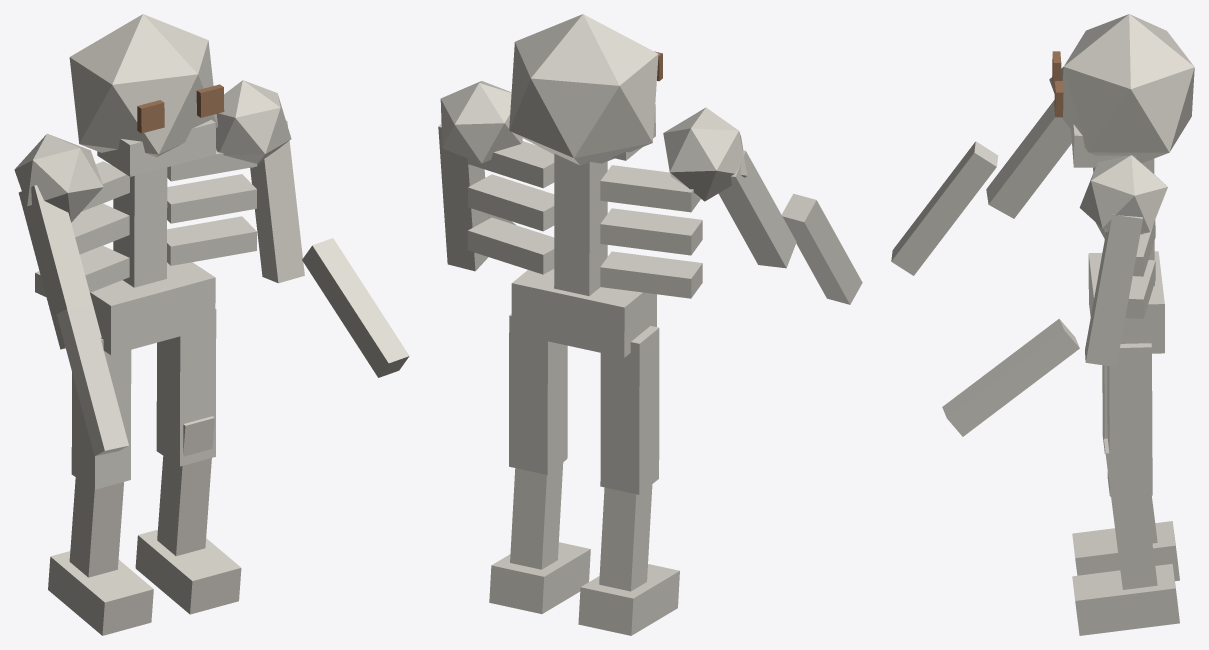
Rendered from npcpose_skeleton_attack_08.glb.
3 renders of one model, left to right at view 1: azimuth 30°, elevation 25°; view 2: azimuth 150°, elevation 25°; view 3: azimuth 270°, elevation 25°, orthographic.
Visible parts, largest first — view 1: npcpose; view 2: npcpose; view 3: npcpose.
Boxes of the visible parts, x1,y1,x2,y2 form: npcpose: (14,14,409,635); npcpose: (438,14,862,635); npcpose: (891,14,1194,635).
Bounding box in the file's own units: 0.9853 × 1.66 × 0.7793.
